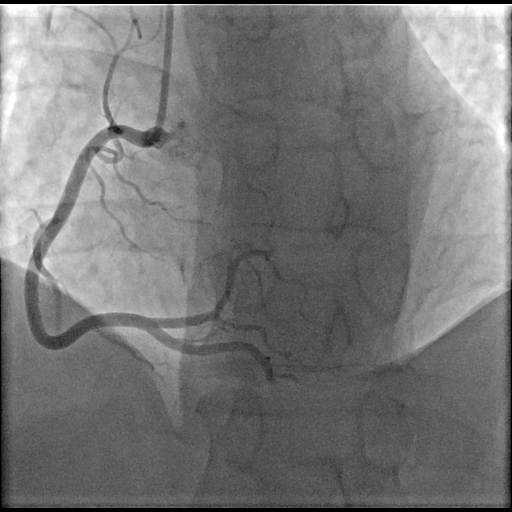RCA: (27, 123, 249, 354)
catherter: (156, 6, 175, 128)
